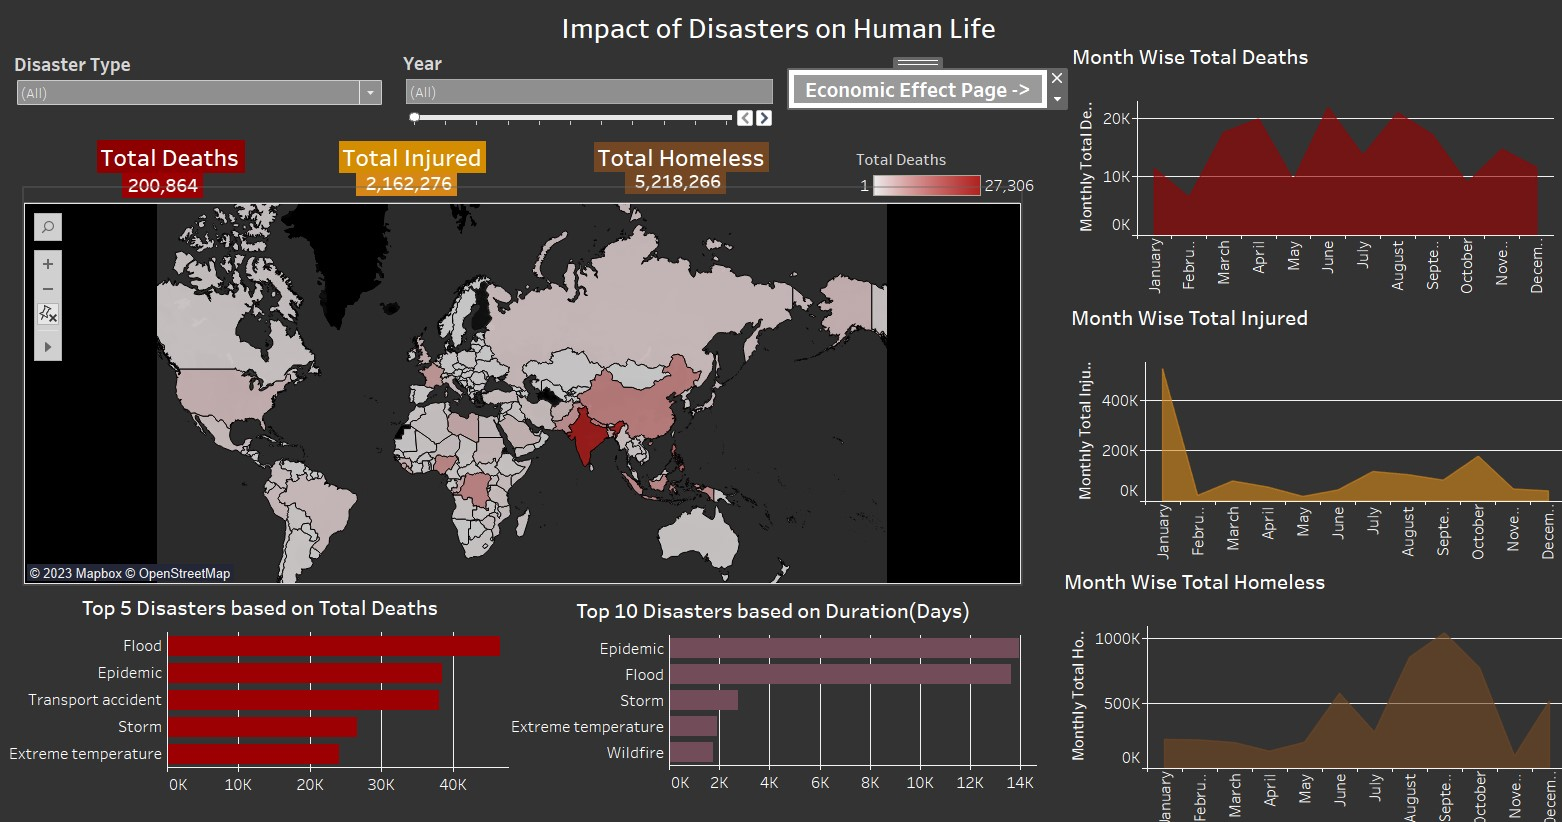

What the dashboard file says about the page in this screenshot:
{"tool":"tableau","page":{"name":"Dashboard 1","canvas":[1569,827],"ordinal":0},"visuals":[{"type":"title","box":[8,8,1553,87]},{"type":"worksheet","title":"Time series deaths","mark":"Area","rows":["Total Deaths"],"cols":["Calculation_1819735752214126592"],"box":[1074,41,486,257]},{"type":"filter","title":"World map","param":"[federated.1pzrqai1v54i2g12y3eq81ipzzdz].[YEAR(Year) Set]","box":[409,53,373,83]},{"type":"filter","title":"World map","param":"[federated.1pzrqai1v54i2g12y3eq81ipzzdz].[none:Disaster Type:nk]","box":[20,54,371,58]},{"type":"dashboard-object","box":[795,73,258,38]},{"type":"worksheet","title":"Deaths","mark":"Automatic","box":[128,126,350,143]},{"type":"text","box":[103,139,148,37]},{"type":"text","box":[345,144,147,32]},{"type":"text","box":[600,145,175,30]},{"type":"legend","title":"World map","param":"[federated.1pzrqai1v54i2g12y3eq81ipzzdz].[sum:Total Deaths:qk]","box":[862,152,183,61]},{"type":"worksheet","title":"Homeless","mark":"Automatic","box":[631,156,442,141]},{"type":"worksheet","title":"Injured","mark":"Automatic","box":[362,158,388,159]},{"type":"worksheet","title":"World map","mark":"Automatic","box":[30,191,997,396]},{"type":"worksheet","title":"Time series injured","mark":"Area","rows":["No Injured"],"cols":["Calculation_1819735752214126592"],"box":[1073,302,499,262]}]}

Visuals, with their boxes in screenshot pixels (x1, y1, x2, y2), scaled from the page's 1569x827 canvas onto the 1562x822 screenshot:
title: <bbox>8, 8, 1554, 94</bbox>
"Time series deaths" worksheet (Area marks): <bbox>1069, 41, 1553, 296</bbox>
"World map" filter: <bbox>407, 53, 779, 135</bbox>
"World map" filter: <bbox>20, 54, 389, 111</bbox>
dashboard-object: <bbox>791, 73, 1048, 110</bbox>
"Deaths" worksheet: <bbox>127, 125, 476, 267</bbox>
text: <bbox>103, 138, 250, 175</bbox>
text: <bbox>343, 143, 490, 175</bbox>
text: <bbox>597, 144, 772, 174</bbox>
"World map" legend: <bbox>858, 151, 1040, 212</bbox>
"Homeless" worksheet: <bbox>628, 155, 1068, 295</bbox>
"Injured" worksheet: <bbox>360, 157, 747, 315</bbox>
"World map" worksheet: <bbox>30, 190, 1022, 583</bbox>
"Time series injured" worksheet (Area marks): <bbox>1068, 300, 1561, 561</bbox>
